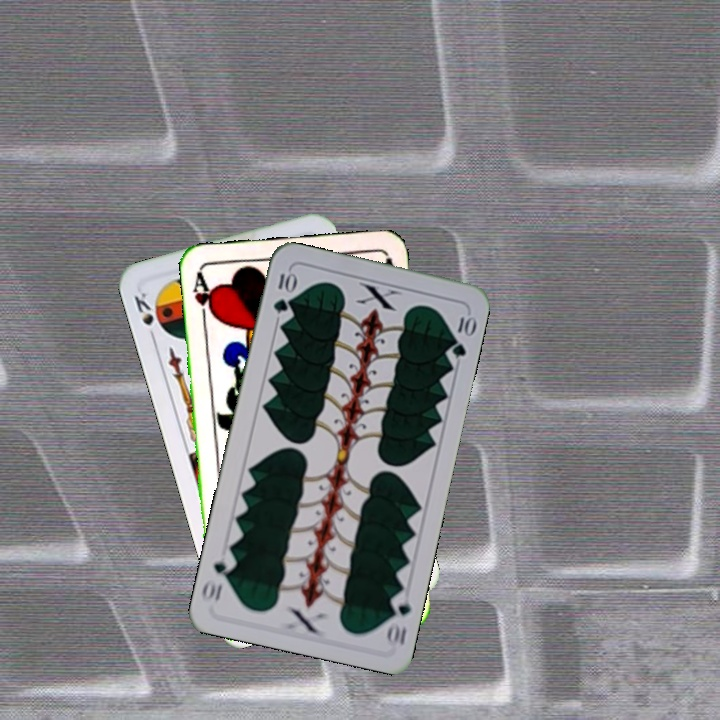G10: (382, 588, 414, 648), (269, 267, 298, 316)
HA: (188, 269, 218, 328)
SK: (130, 288, 159, 345)
